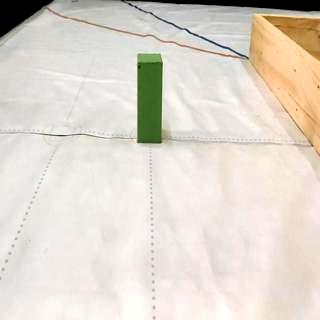greenbox: (135, 52, 163, 144)
